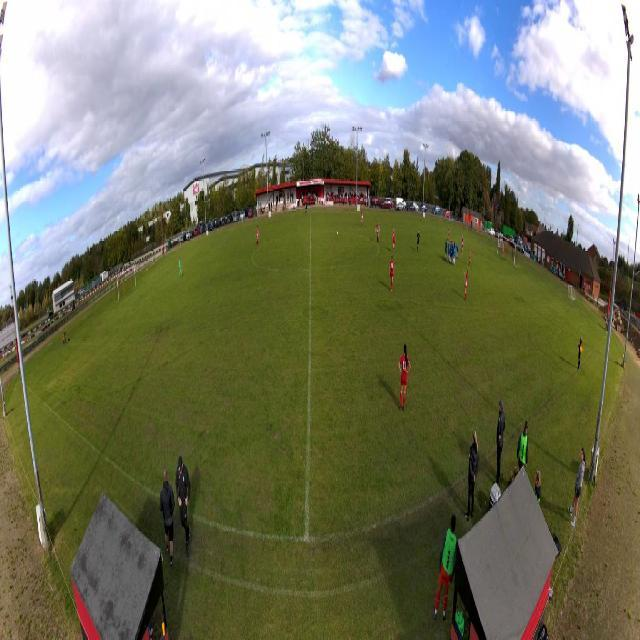ball: (337, 232, 339, 236)
player: (397, 343, 411, 412), (389, 256, 395, 292), (464, 268, 469, 302), (392, 228, 397, 252), (375, 222, 380, 243), (451, 244, 456, 265), (417, 228, 421, 253), (468, 245, 472, 267), (179, 258, 183, 279), (446, 241, 450, 262), (256, 225, 260, 245), (449, 239, 452, 264), (455, 243, 459, 260), (445, 239, 448, 261), (461, 236, 464, 256), (360, 209, 363, 228), (448, 226, 450, 243), (502, 243, 504, 259)
